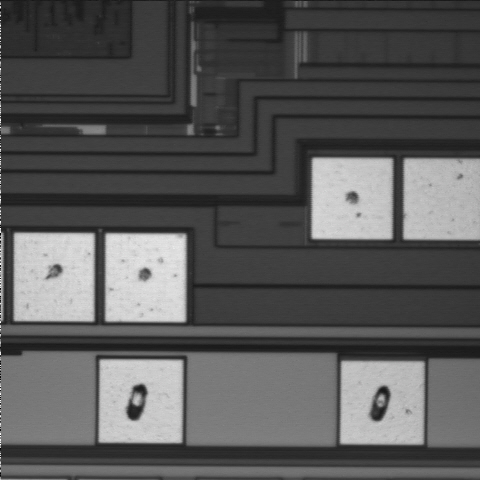pad: (14, 233, 94, 321), (106, 234, 186, 322), (99, 360, 182, 443), (341, 362, 423, 444), (312, 158, 392, 239)
